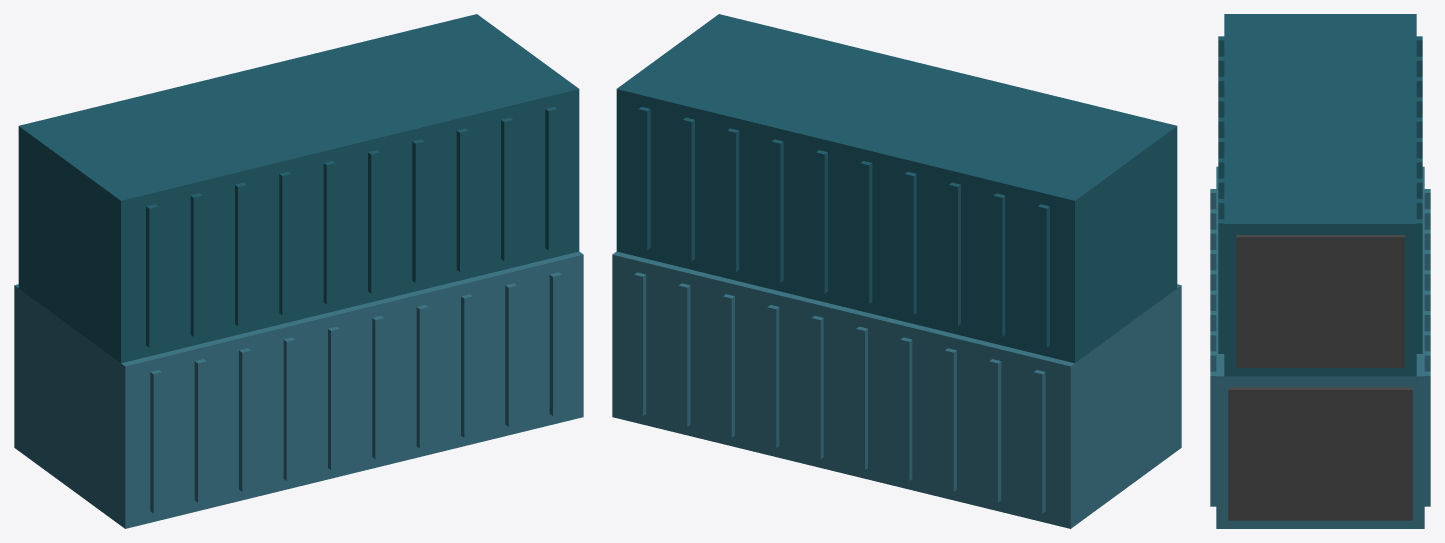
The model's file is w-containers.glb.
3 renders of one model, left to right at view 1: azimuth 30°, elevation 25°; view 2: azimuth 150°, elevation 25°; view 3: azimuth 270°, elevation 25°, orthographic. The views are drawn at different scales.
Visible parts, largest first — view 1: w-containers; view 2: w-containers; view 3: w-containers.
Part boxes in pixels (left/top/right/bottom): w-containers: left=14, top=14, right=583, bottom=528; w-containers: left=612, top=14, right=1181, bottom=528; w-containers: left=1210, top=14, right=1430, bottom=528.
Bounding box in the file's own units: 1.25 × 0.8399 × 0.55.
